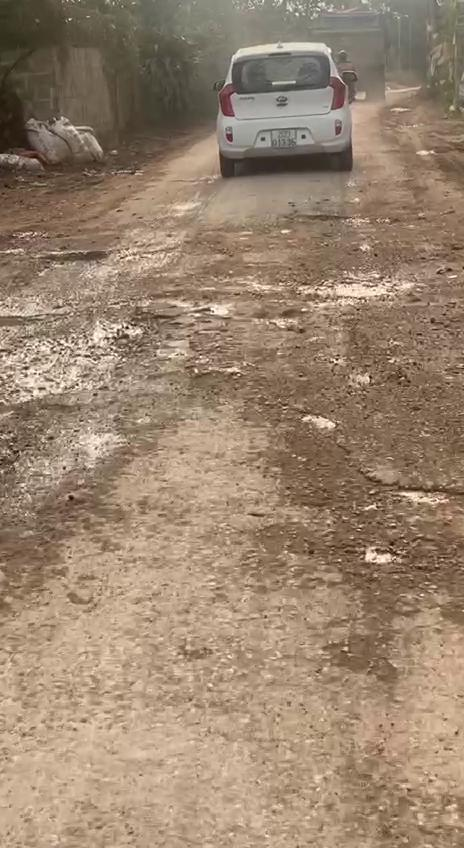pothole: (0, 295, 223, 409), (249, 266, 424, 303)
